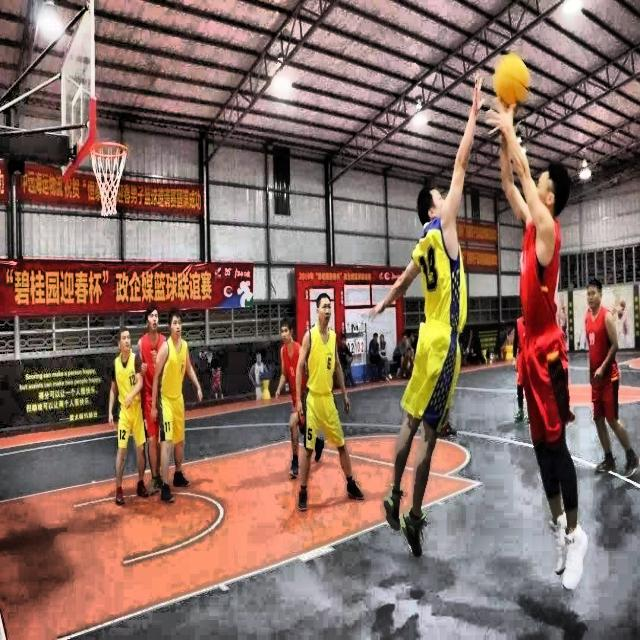rim: (92, 142, 127, 216)
